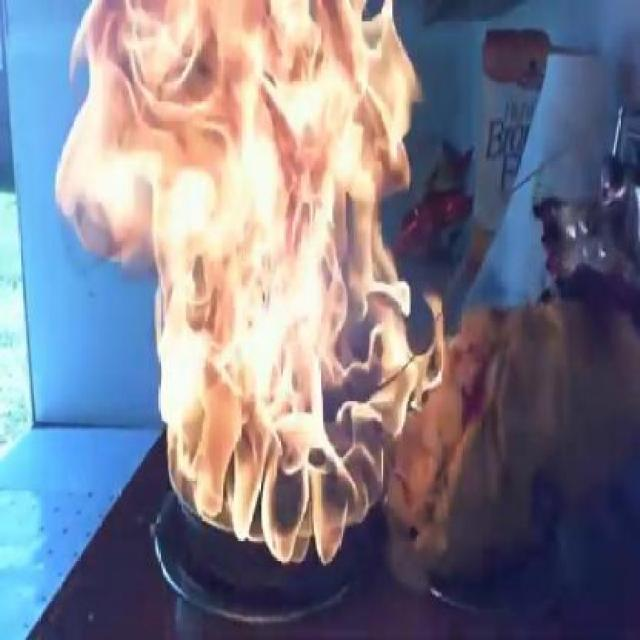fire: (61, 1, 412, 277), (153, 284, 438, 562)
